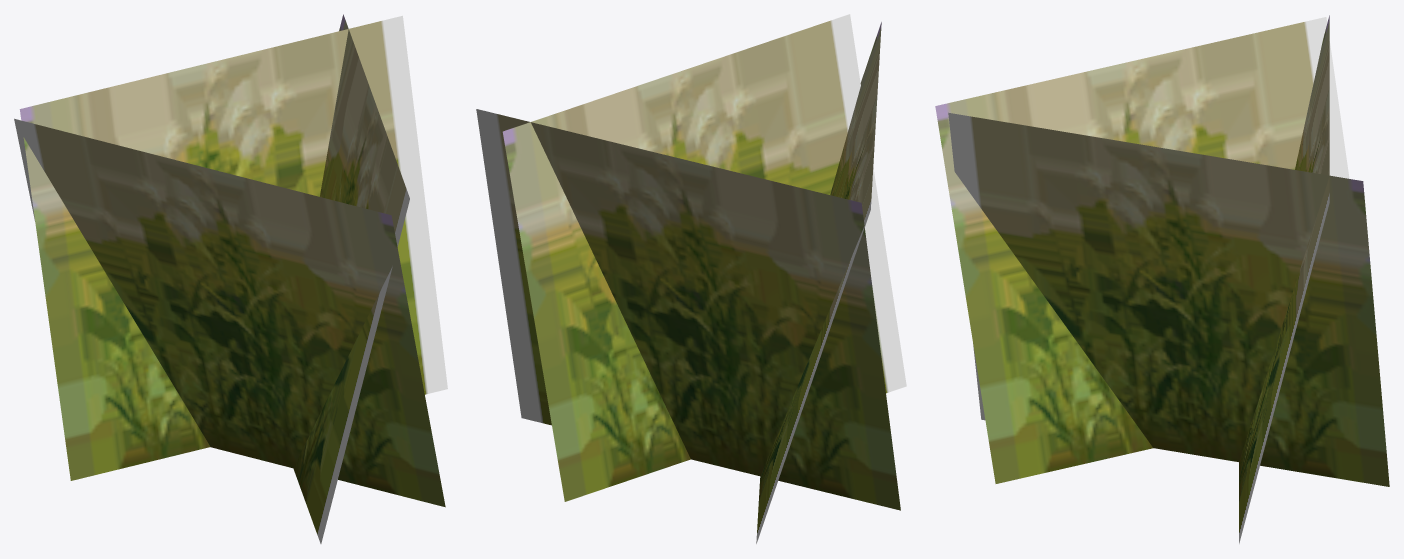
File: yzc_cao01.FBX
3 views of the same model, side by side, from view 1: azimuth 30°, elevation 25°; view 2: azimuth 150°, elevation 25°; view 3: azimuth 270°, elevation 25° (orthographic).
Visible parts, largest first — view 1: yzc_cao01; view 2: yzc_cao01; view 3: yzc_cao01.
Boxes of the visible parts, left/top/right/bottom form: yzc_cao01: left=14, top=14, right=447, bottom=543; yzc_cao01: left=476, top=14, right=906, bottom=543; yzc_cao01: left=935, top=15, right=1389, bottom=543.
Size of the model in its own units: 115 by 95.69 by 115.
